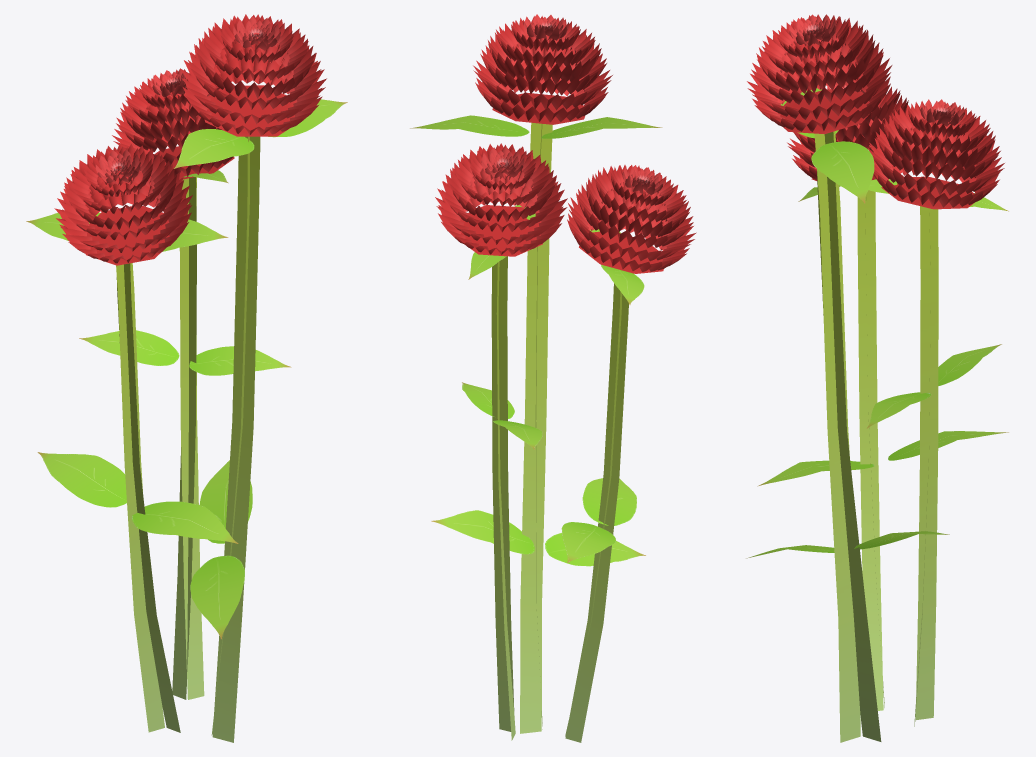
File: Globe_amaranth_model.fbx
3 views of the same model, side by side, from view 1: azimuth 30°, elevation 25°; view 2: azimuth 150°, elevation 25°; view 3: azimuth 270°, elevation 25° (orthographic). The views are drawn at different scales.
Parts seen in each view (by area): view 1: Globe_amaranth6; view 2: Globe_amaranth6; view 3: Globe_amaranth6.
Part boxes in pixels (x1,y1,x2,y2): Globe_amaranth6: (26, 14, 347, 742); Globe_amaranth6: (410, 14, 696, 742); Globe_amaranth6: (746, 14, 1008, 742).
Size of the model in its own units: 18.37 by 42.11 by 15.61.
